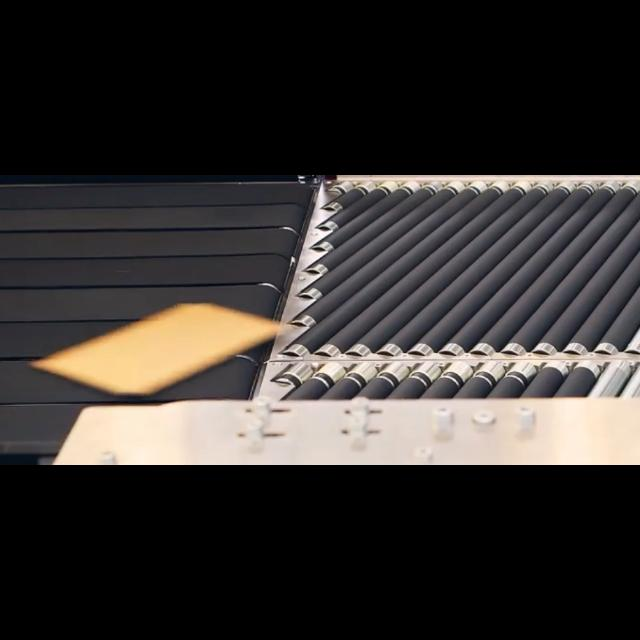mailer: (37, 302, 295, 393)
